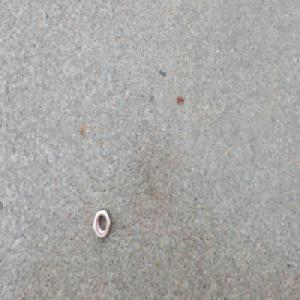Nut: (92, 208, 111, 240)
